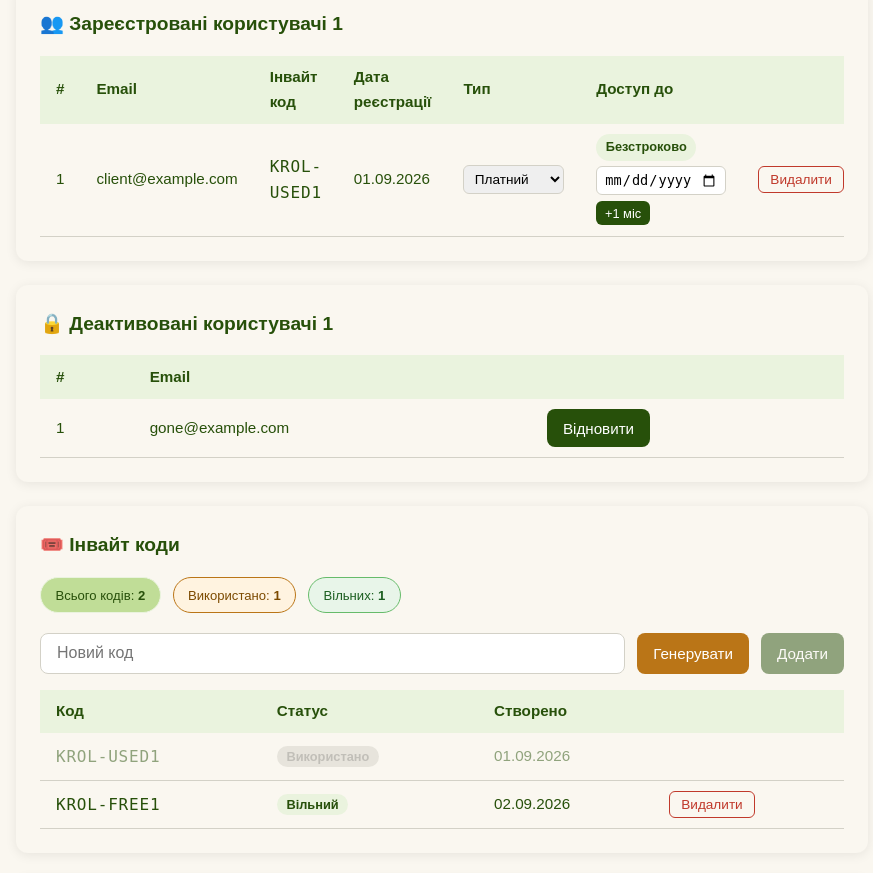
Test: Admin: коди й відновлення › помилка відновлення доступу показує повідомлення
(page scrolled)
Click the button "Відновити".
click(598, 428)  # box [547,409,650,447]
(page scrolled)
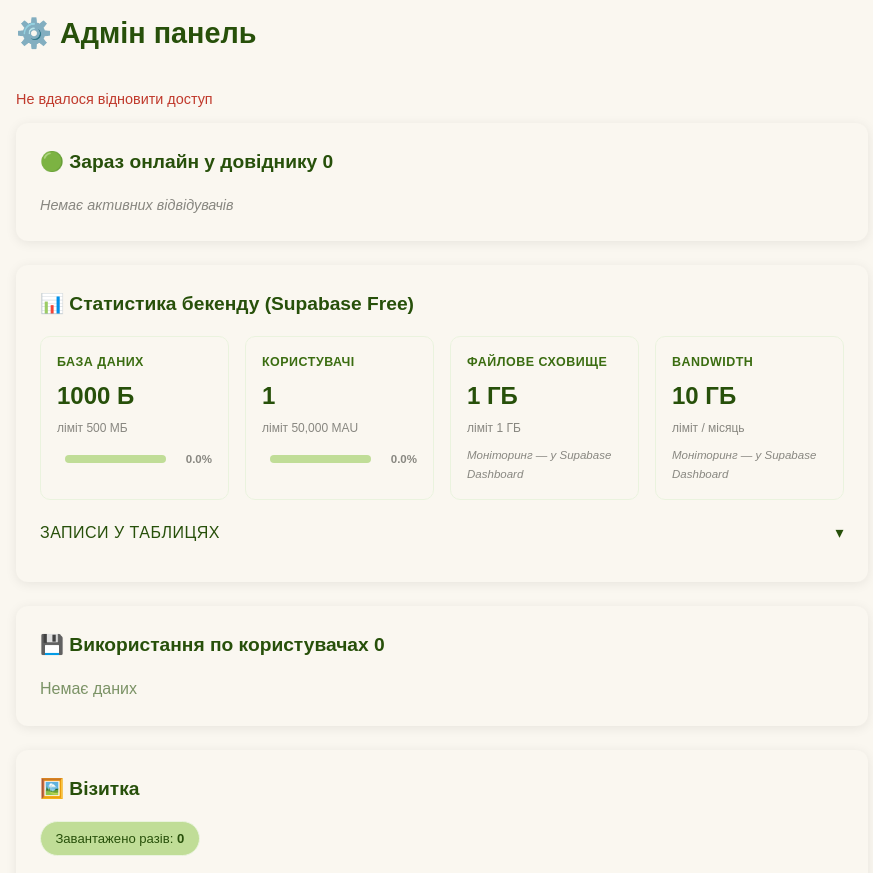
Now the text "Не вдалося відновити доступ" is shown, box [16,91,213,107]
